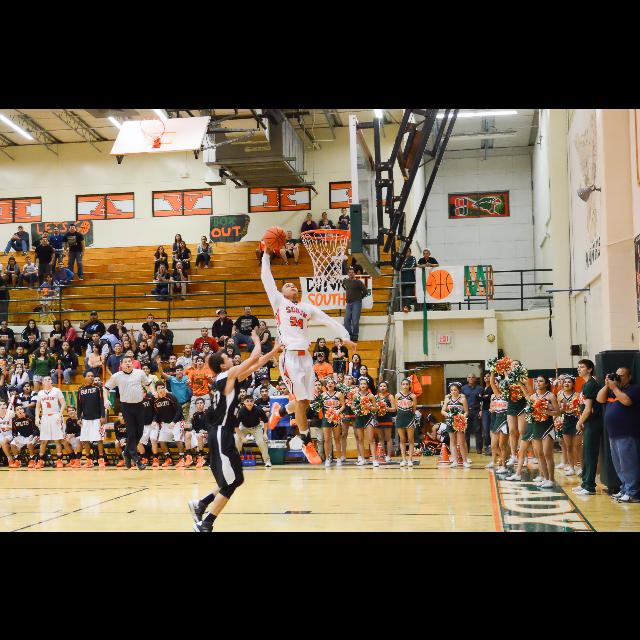head: (208, 351, 234, 373), (614, 366, 632, 388), (577, 359, 595, 376), (282, 281, 298, 299), (536, 374, 550, 390), (120, 355, 134, 369), (243, 395, 254, 409), (563, 378, 575, 390), (66, 405, 78, 417), (499, 379, 509, 393), (450, 382, 460, 396), (155, 381, 165, 395), (511, 360, 522, 372), (451, 380, 462, 392), (85, 371, 95, 384), (558, 374, 568, 386), (401, 379, 411, 391), (359, 378, 369, 390), (326, 378, 336, 390), (343, 374, 353, 386), (14, 404, 24, 416), (43, 375, 53, 387), (118, 410, 128, 422), (195, 397, 205, 409), (259, 386, 269, 398), (195, 356, 205, 368), (174, 365, 184, 377), (280, 382, 288, 396), (467, 372, 477, 383), (379, 381, 389, 392), (136, 385, 146, 395), (260, 376, 270, 386), (202, 342, 212, 352), (183, 344, 193, 354), (168, 355, 178, 365), (124, 348, 134, 358), (22, 382, 32, 392), (8, 386, 18, 396), (1, 398, 8, 412), (314, 380, 322, 392), (200, 328, 210, 337), (483, 371, 492, 381), (352, 353, 361, 363), (491, 378, 499, 389), (427, 417, 435, 428), (0, 319, 8, 329), (28, 318, 36, 328), (116, 319, 124, 329), (160, 321, 168, 331), (219, 308, 227, 318), (259, 320, 267, 330), (360, 364, 368, 374), (334, 337, 342, 347), (318, 351, 326, 361), (318, 337, 326, 347), (348, 267, 356, 277), (423, 248, 431, 258), (240, 388, 248, 398), (257, 351, 265, 361), (234, 354, 242, 364), (226, 337, 234, 347), (226, 344, 234, 354), (192, 354, 200, 364), (142, 365, 150, 375), (114, 342, 122, 352), (121, 332, 129, 342), (92, 332, 100, 342), (62, 340, 70, 350), (39, 339, 47, 349), (15, 363, 23, 373), (16, 346, 26, 354), (94, 375, 102, 385), (90, 312, 98, 321), (404, 247, 412, 256), (54, 320, 61, 330), (146, 314, 154, 322), (244, 306, 252, 314), (534, 388, 542, 396), (176, 261, 184, 269), (142, 332, 150, 340), (146, 339, 154, 347), (38, 346, 46, 354), (70, 223, 76, 233), (338, 372, 344, 382), (278, 375, 284, 385), (94, 342, 100, 352), (8, 257, 15, 265), (160, 264, 167, 272), (18, 224, 24, 232), (43, 230, 49, 238), (42, 236, 48, 244), (54, 226, 60, 234), (58, 260, 64, 268), (46, 274, 52, 282), (64, 319, 70, 327), (337, 246, 343, 254), (341, 206, 347, 214), (306, 212, 312, 220), (286, 230, 292, 238), (201, 235, 207, 243), (179, 240, 185, 248), (0, 345, 6, 353), (124, 340, 130, 348), (25, 255, 31, 262), (323, 218, 329, 225), (158, 245, 164, 252), (354, 250, 360, 256), (322, 212, 328, 218), (175, 234, 181, 240), (0, 366, 4, 374), (264, 232, 268, 236), (0, 272, 2, 278)
person: (259, 225, 359, 465), (103, 354, 159, 470), (506, 386, 550, 482), (573, 358, 603, 496), (528, 374, 562, 488), (155, 354, 197, 438), (325, 267, 369, 345), (488, 356, 516, 474), (34, 374, 68, 468), (556, 376, 586, 478), (76, 368, 106, 469), (504, 359, 532, 467), (232, 394, 272, 468), (152, 380, 185, 468), (554, 372, 582, 472), (441, 381, 472, 469), (350, 377, 380, 467), (339, 374, 367, 464), (130, 384, 160, 468), (318, 378, 346, 466), (486, 376, 512, 469), (184, 355, 216, 429), (443, 380, 471, 464), (306, 379, 334, 463), (183, 396, 214, 468), (459, 372, 486, 454), (394, 378, 418, 467), (371, 380, 397, 462), (130, 323, 156, 397), (10, 404, 40, 468), (160, 354, 187, 424), (174, 344, 202, 411), (191, 326, 221, 386), (480, 370, 500, 456), (137, 363, 163, 429), (352, 364, 376, 434), (310, 350, 334, 420), (252, 373, 280, 433), (249, 350, 279, 406), (62, 404, 88, 468), (184, 354, 208, 421), (416, 246, 440, 312), (230, 304, 260, 356), (105, 342, 128, 408), (228, 353, 252, 415), (74, 310, 106, 356), (253, 386, 279, 442), (30, 346, 56, 402), (113, 408, 137, 468), (230, 386, 256, 440), (197, 341, 220, 402), (221, 336, 243, 398), (16, 381, 42, 433), (118, 348, 142, 404), (50, 340, 78, 388), (347, 352, 367, 418), (398, 246, 418, 312), (82, 331, 110, 377), (63, 223, 85, 281), (84, 374, 108, 426), (29, 338, 55, 384), (274, 382, 298, 430), (33, 236, 56, 286), (425, 413, 455, 451), (0, 398, 16, 468), (221, 344, 241, 400), (332, 372, 350, 434), (81, 342, 105, 388), (5, 385, 28, 431), (36, 272, 60, 316), (136, 313, 160, 357), (210, 308, 233, 352), (141, 336, 161, 386), (248, 320, 274, 358), (136, 332, 156, 381), (118, 332, 136, 386), (31, 229, 53, 273), (7, 362, 29, 406), (0, 224, 30, 256), (118, 339, 136, 391), (274, 374, 294, 420), (20, 318, 42, 358), (11, 344, 31, 388), (49, 226, 67, 274), (324, 244, 348, 280), (154, 321, 174, 364), (105, 318, 127, 356), (312, 336, 331, 379), (168, 260, 188, 300), (54, 260, 76, 296), (44, 318, 66, 354), (330, 337, 348, 381), (151, 263, 171, 301), (16, 255, 38, 289), (255, 232, 277, 266), (0, 262, 10, 332), (280, 230, 300, 264), (60, 318, 78, 354), (317, 211, 337, 243), (298, 212, 318, 244), (194, 236, 214, 268), (2, 256, 20, 290), (174, 239, 192, 273), (170, 233, 186, 269), (1, 319, 16, 357), (153, 245, 169, 278), (0, 344, 12, 388), (0, 364, 12, 404), (336, 206, 350, 240), (350, 248, 364, 276), (317, 218, 333, 242)
